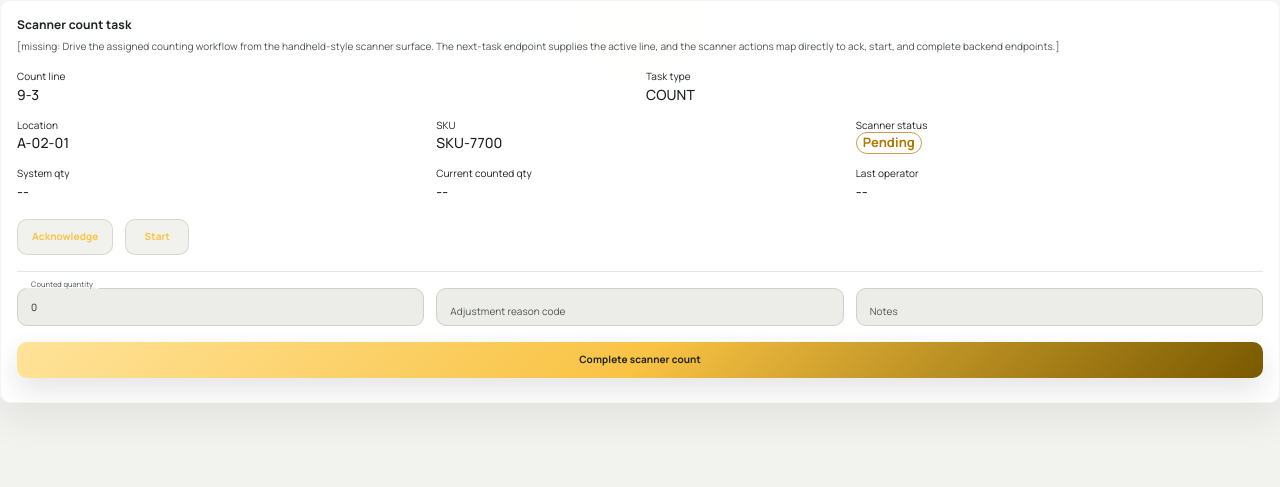
it: runs scanner ack, start, and complete actions from the handheld panel
The image size is (1280, 487).
Step 1. Click the button "Acknowledge" → (65, 236), box [17, 218, 113, 254]
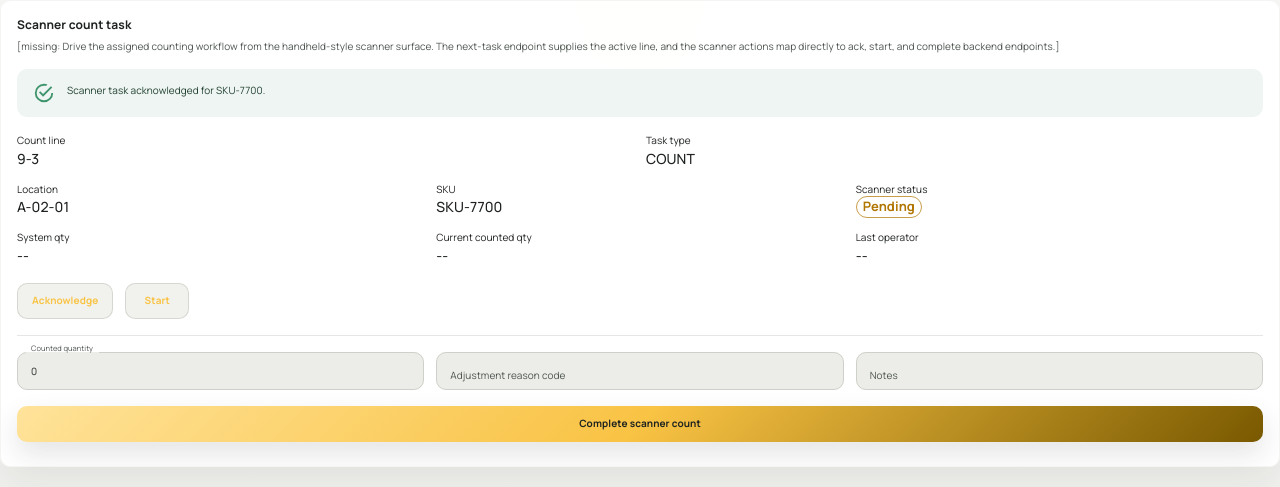
Check: the text "Scanner task acknowledged for SKU-7700." is shown, box [67, 83, 265, 97]
Step 2. Click the button "Start" → (157, 300), box [125, 282, 189, 318]
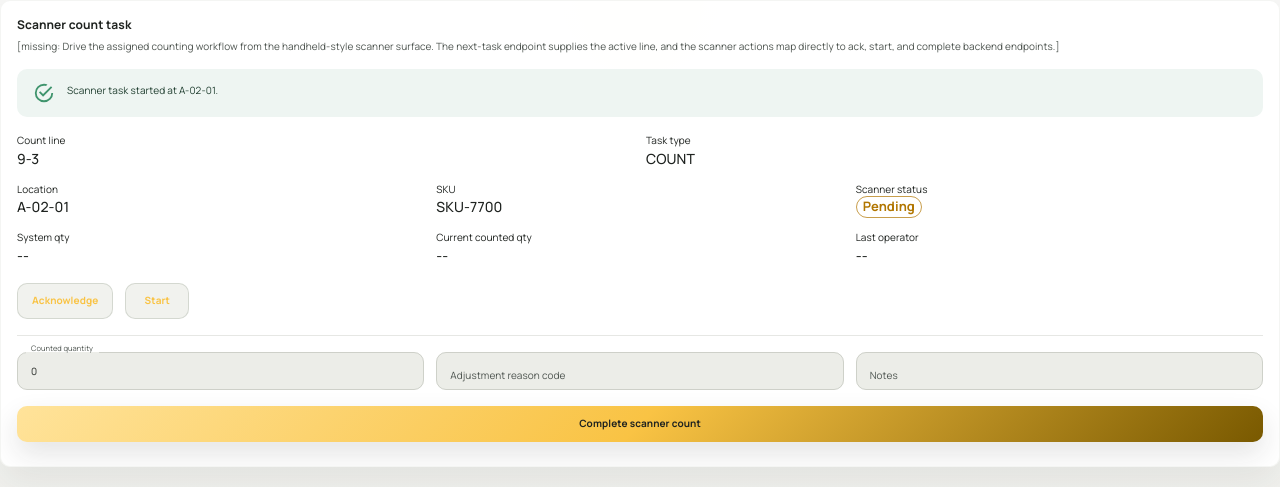
Check: the text "Scanner task started at A-02-01." is shown, box [67, 83, 218, 97]
Step 3. Replace the text in the number field labelled "Counted quantity" with "6" → (221, 371), box [17, 352, 424, 390]
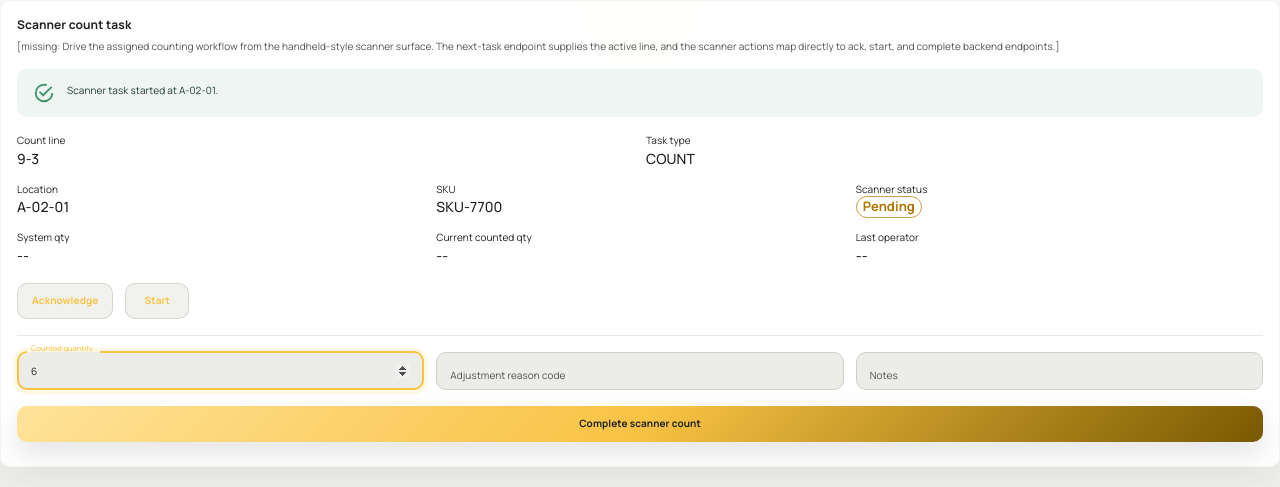
Step 4. Type "COUNT_VAR" into the field labelled "Adjustment reason code" → (640, 371), box [436, 352, 844, 390]
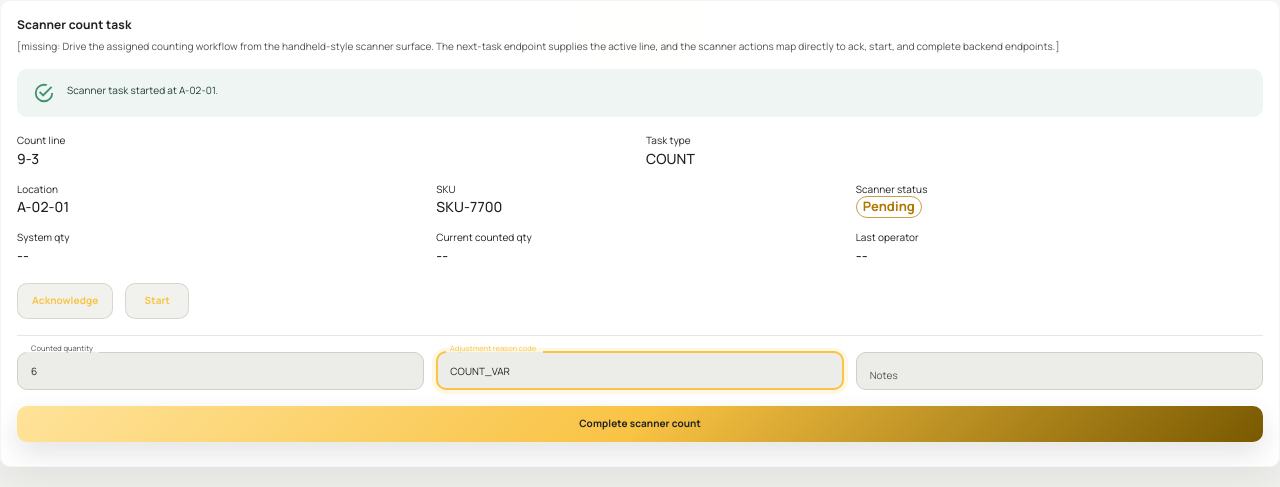
Step 5. Type "Scanner complete" into the field labelled "Notes" → (1059, 371), box [856, 352, 1263, 390]
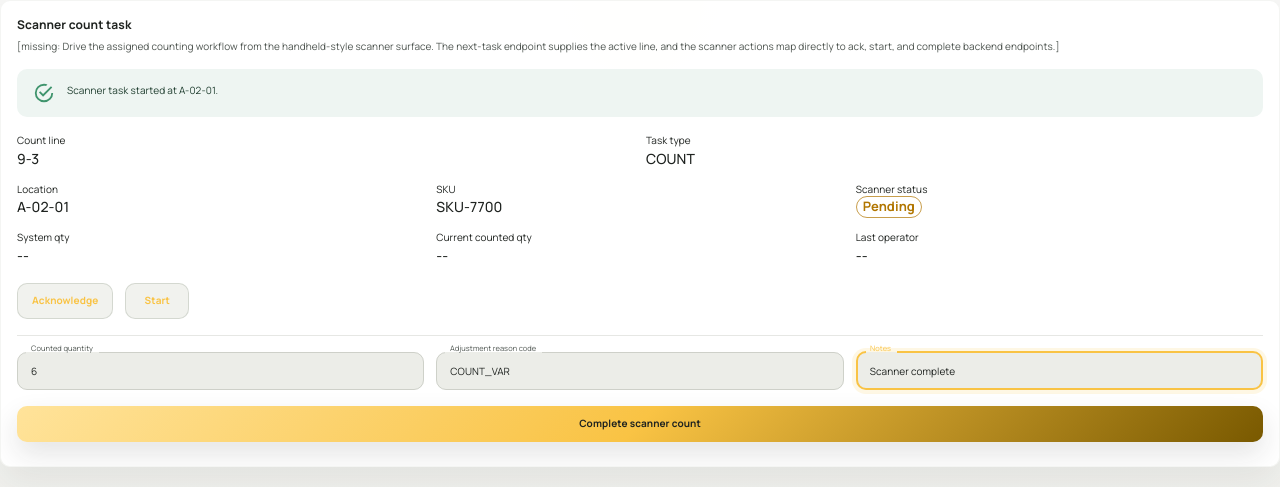
Step 6. Click the button "Complete scanner count" → (640, 424), box [17, 406, 1263, 442]
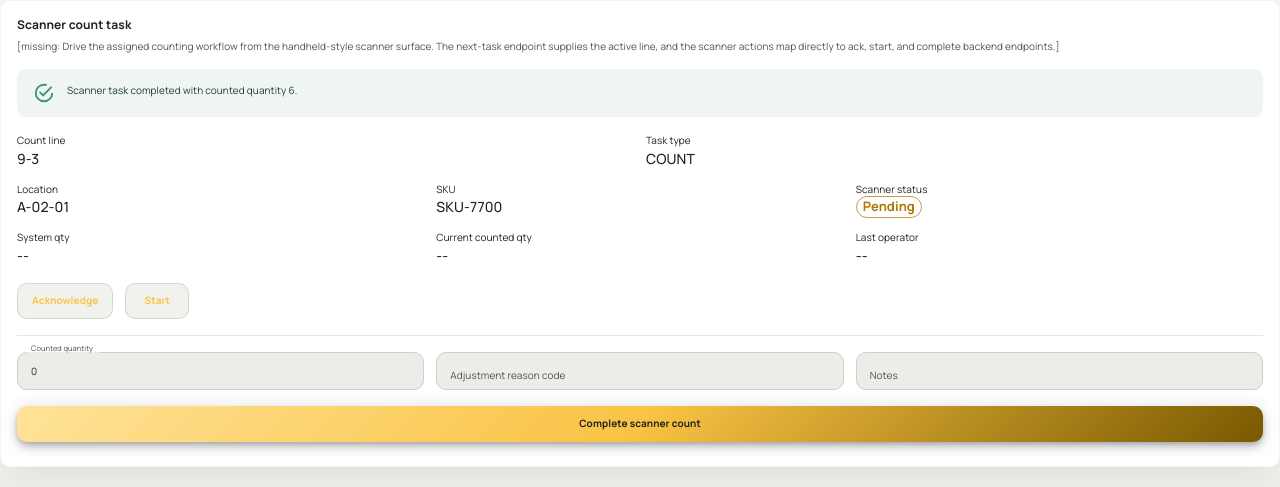
Check: the text "Scanner task completed with counted quantity 6." is shown, box [67, 83, 297, 97]
